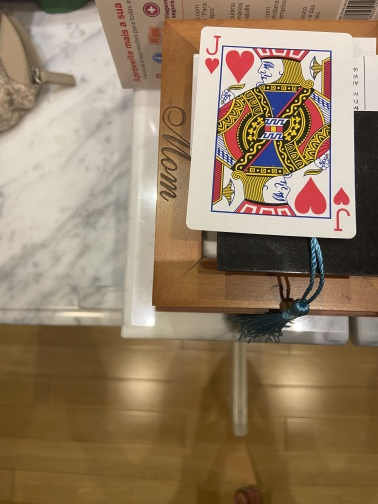jack: (185, 26, 358, 240)
